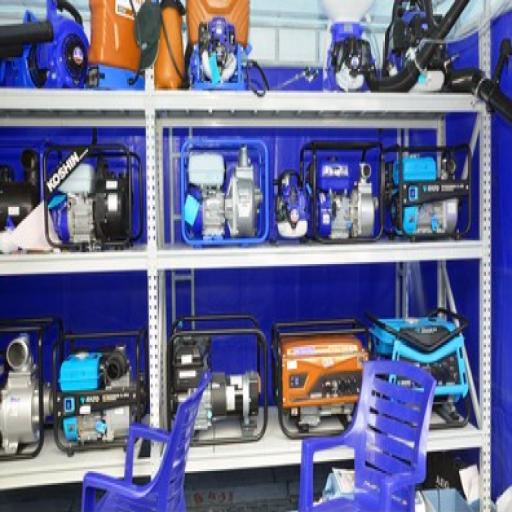portable_generator: (364, 310, 471, 431), (170, 317, 267, 445), (272, 320, 370, 442), (53, 332, 146, 452), (43, 145, 143, 250), (179, 138, 272, 245), (1, 315, 67, 462), (381, 142, 473, 238), (299, 141, 384, 244)
